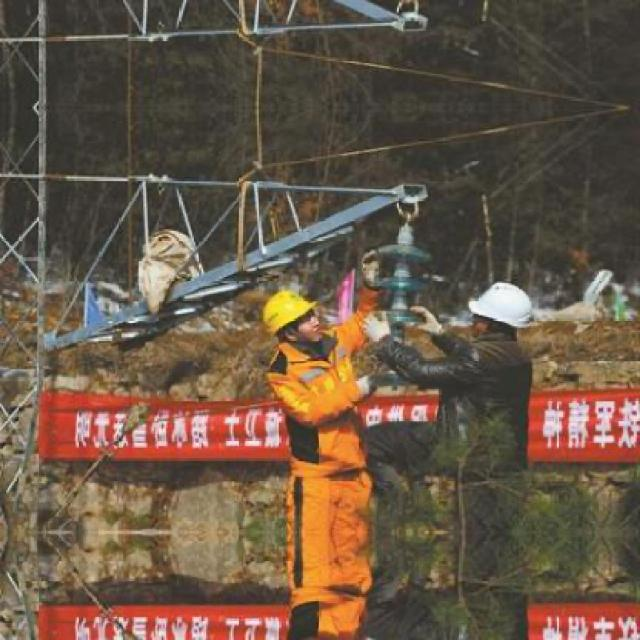helmet: (463, 275, 535, 348), (257, 286, 329, 345)
